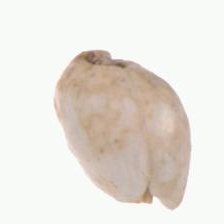L3: (128, 188, 177, 210)
L4: (53, 49, 191, 211)
